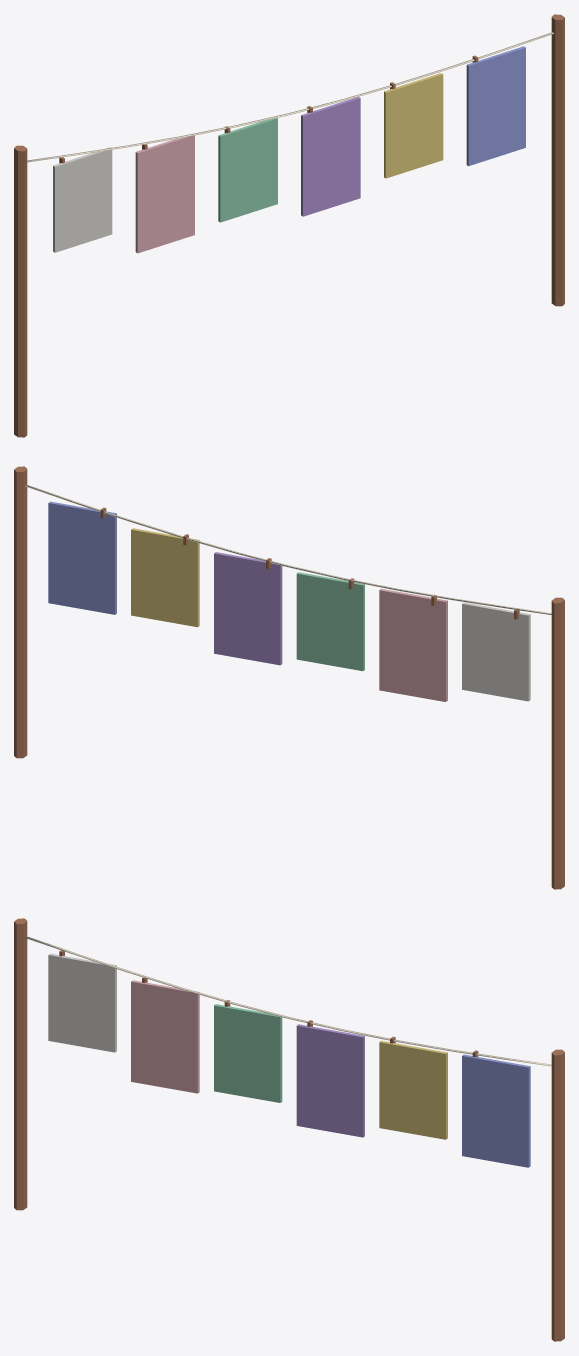
The model's file is drying_line.glb.
3 renders of one model, top to bottom at view 1: azimuth 30°, elevation 25°; view 2: azimuth 150°, elevation 25°; view 3: azimuth 330°, elevation 25°, orthographic.
Visible parts, largest first — view 1: drying_line; view 2: drying_line; view 3: drying_line.
Boxes of the visible parts, <box> form: drying_line: <box>14,14,564,437</box>; drying_line: <box>14,466,564,889</box>; drying_line: <box>14,918,564,1341</box>.
Size of what is drawn, in the model's own units: 4 by 2 by 0.1.
